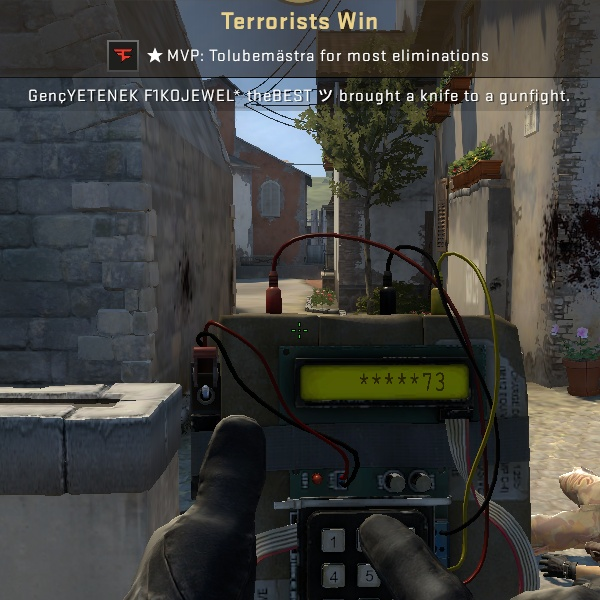t_body: (20, 20, 600, 600)
